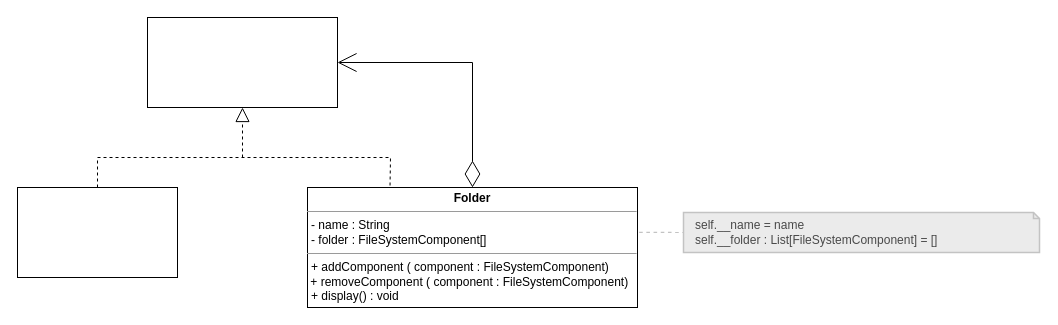
The diagram is 1058 pixels wide and 325 high, and some of its shapes have lost their labels. The shapes that lost their labels are listed below. From the top down, each one's centre as x and y in pixels, then its label:
At point (242, 62): "<<Interface>> FileSystemComponent + display() : void".
At point (97, 232): "File - name : String + display() : void".
